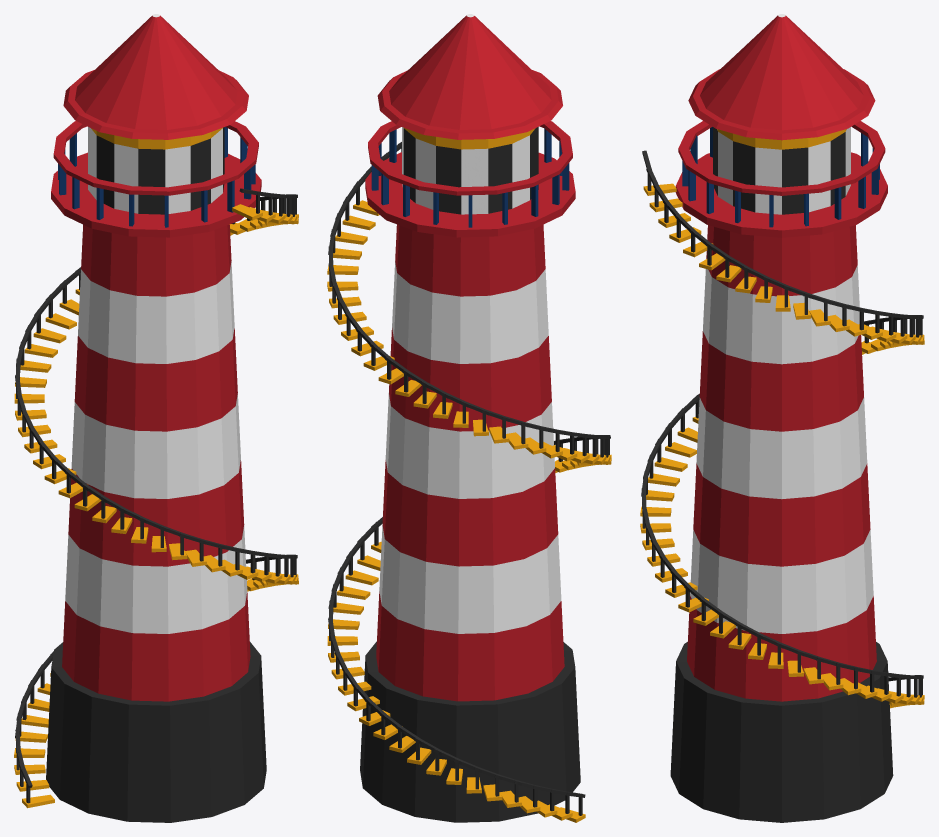
File: Lighthouse.glb
3 views of the same model, side by side, from view 1: azimuth 30°, elevation 25°; view 2: azimuth 150°, elevation 25°; view 3: azimuth 270°, elevation 25° (orthographic).
Visible parts, largest first — view 1: Light House; view 2: Light House; view 3: Light House.
Part boxes in pixels (x1,y1,x2,y2): Light House: (14, 14, 298, 822); Light House: (327, 14, 611, 822); Light House: (640, 14, 924, 822).
Bounding box in the file's own units: 15.48 × 46.07 × 15.46.
1 material, 1 textured.
